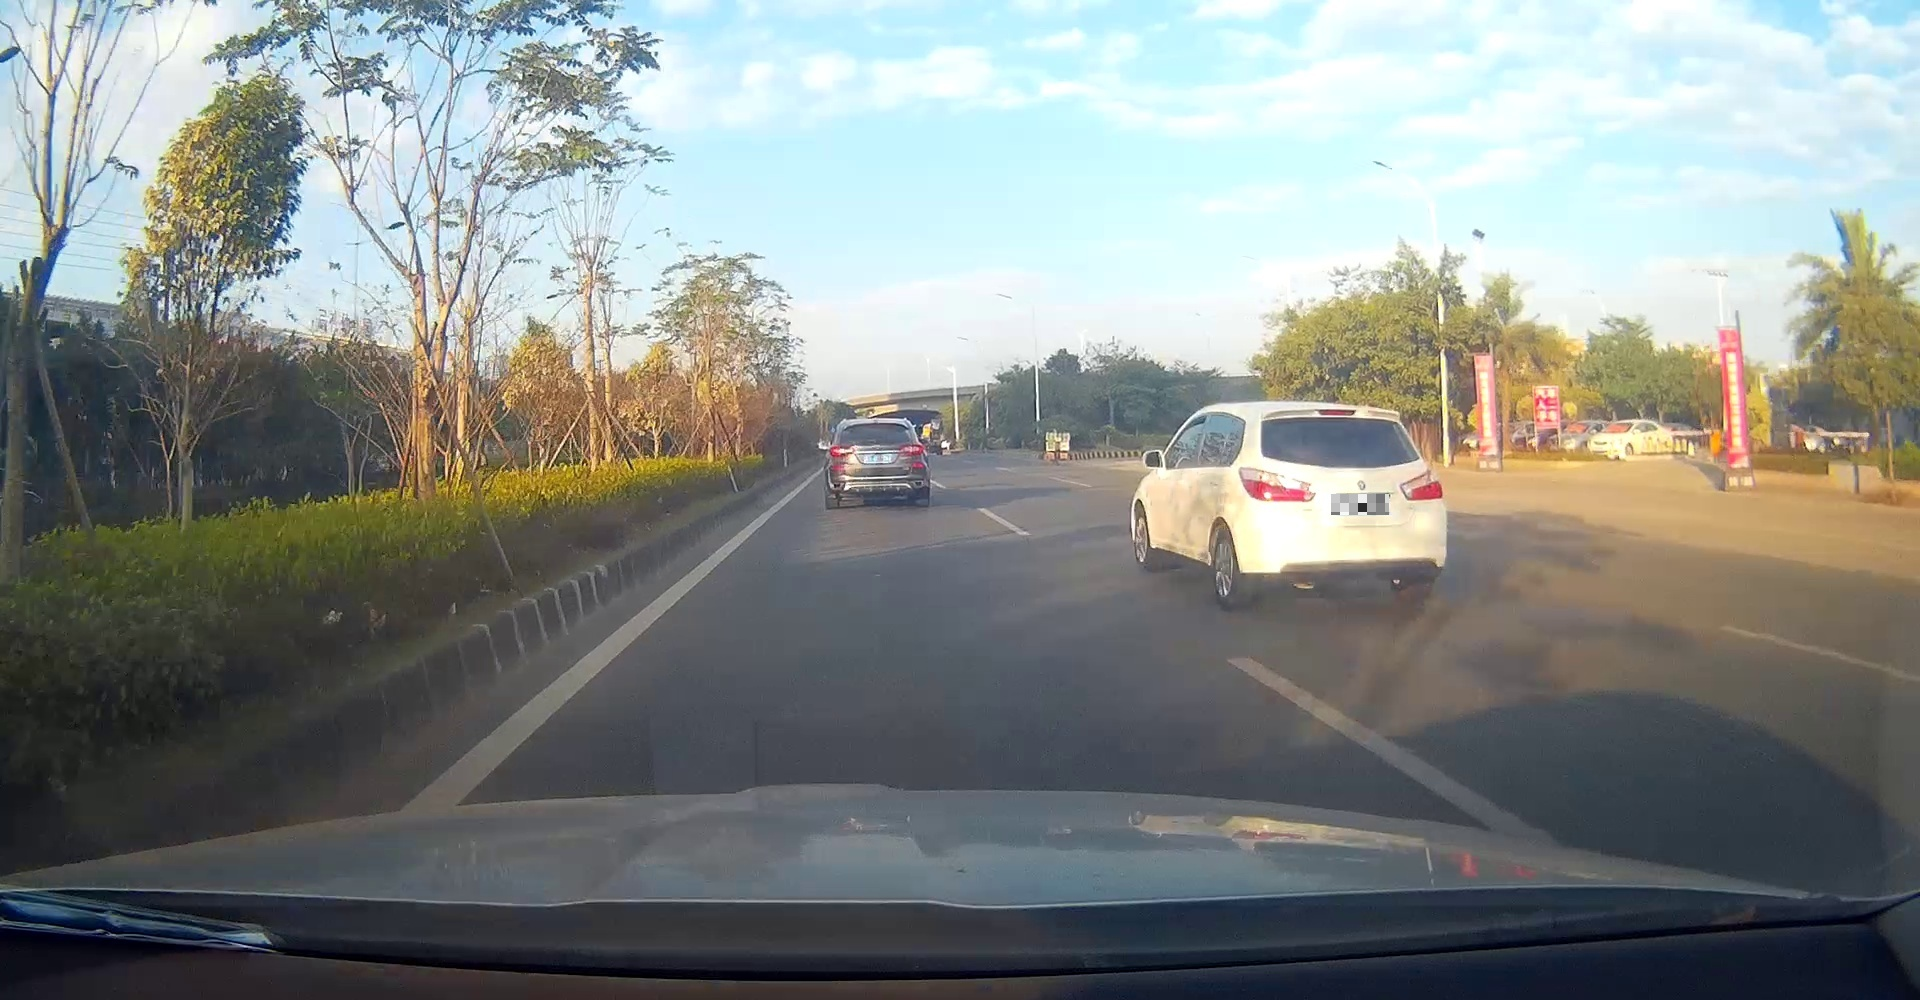L_light: (1238, 467, 1318, 503), (827, 445, 855, 456)
R_light: (1398, 470, 1443, 500), (899, 443, 924, 456)
T_light: (1316, 409, 1357, 418), (869, 421, 884, 426)
day-no: (1236, 404, 1448, 596), (823, 418, 931, 508)
plate_1: (1331, 494, 1389, 515)
